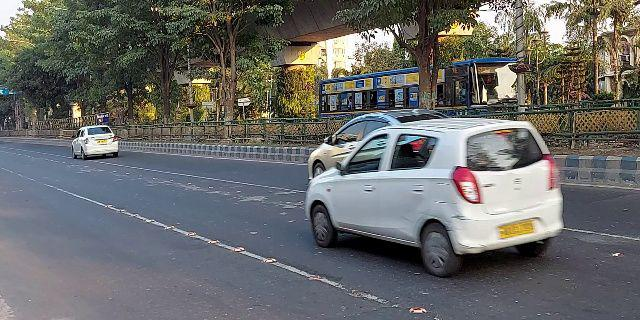Car: (303, 120, 570, 278), (295, 104, 457, 182), (70, 123, 121, 162)
